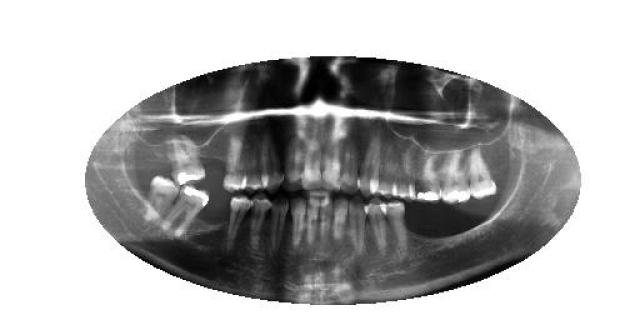Fillings: (161, 184, 210, 238), (169, 134, 206, 184), (441, 148, 471, 204), (414, 152, 444, 202)
